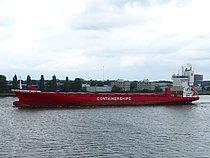Ship: (9, 77, 204, 111)
